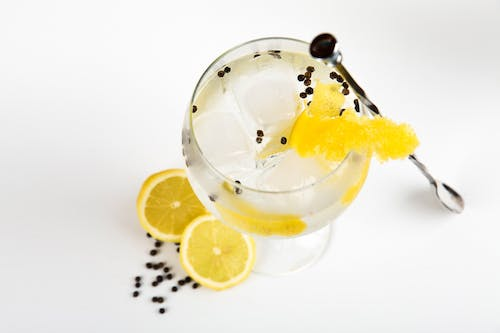alcohol: (180, 37, 372, 277)
